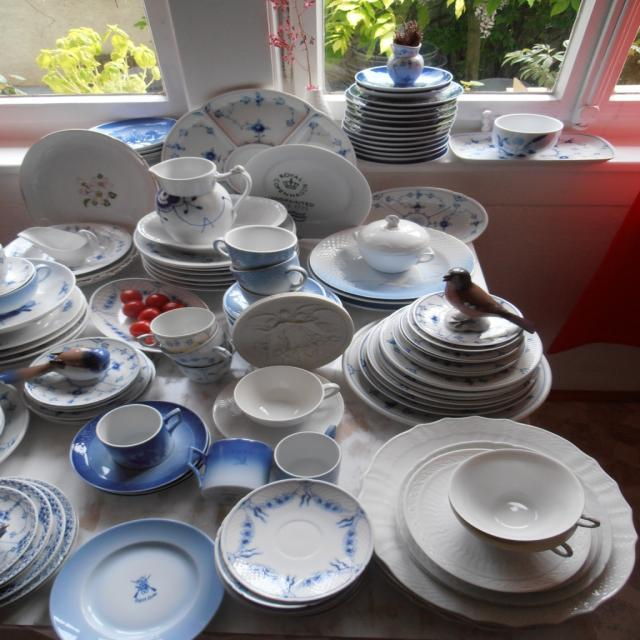ceramic plate: (60, 508, 298, 640), (213, 108, 369, 253), (200, 486, 380, 590)
